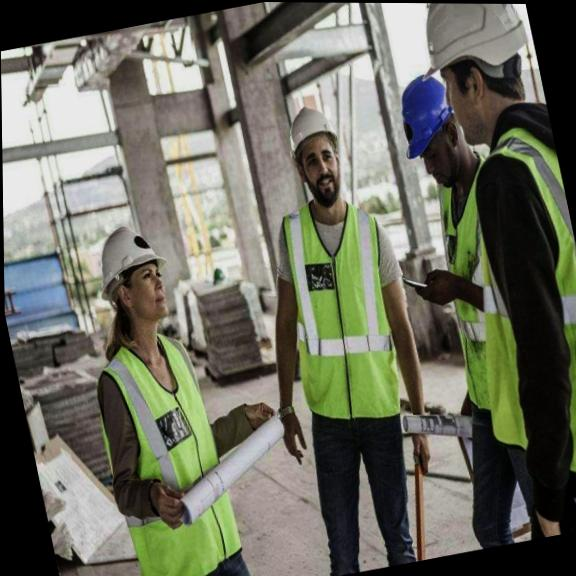safety_vest: (249, 193, 432, 438), (83, 322, 252, 576), (460, 106, 576, 471), (407, 153, 546, 421)
